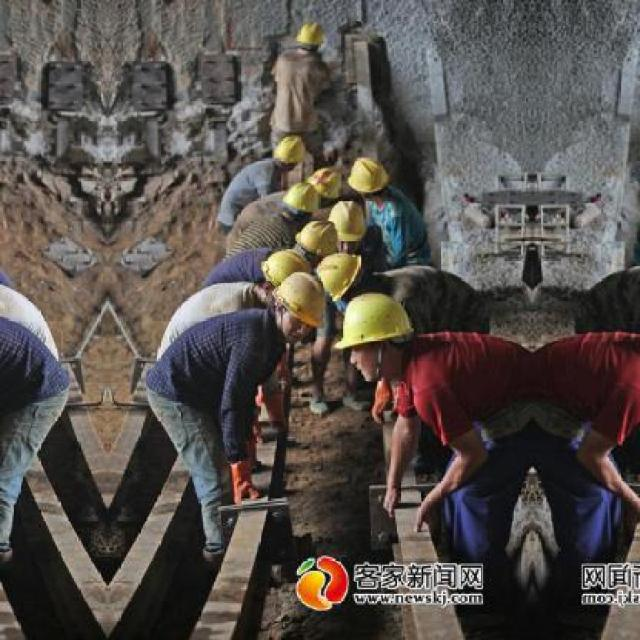helmet: (336, 287, 406, 387), (261, 262, 327, 335), (318, 252, 380, 296), (344, 154, 388, 208), (261, 247, 305, 298), (286, 220, 342, 260), (329, 198, 363, 252), (271, 133, 307, 181), (277, 182, 314, 228), (296, 21, 326, 62)
